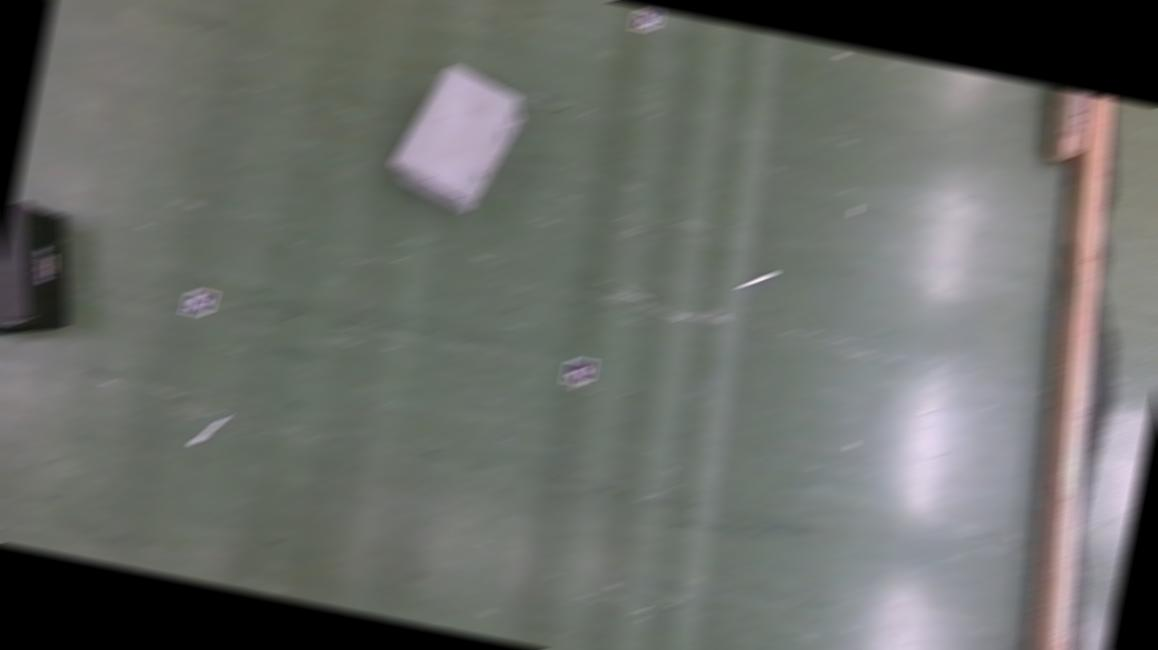probes: (190, 413, 226, 451), (739, 267, 776, 294)
rako: (384, 59, 532, 222), (0, 199, 89, 349)
